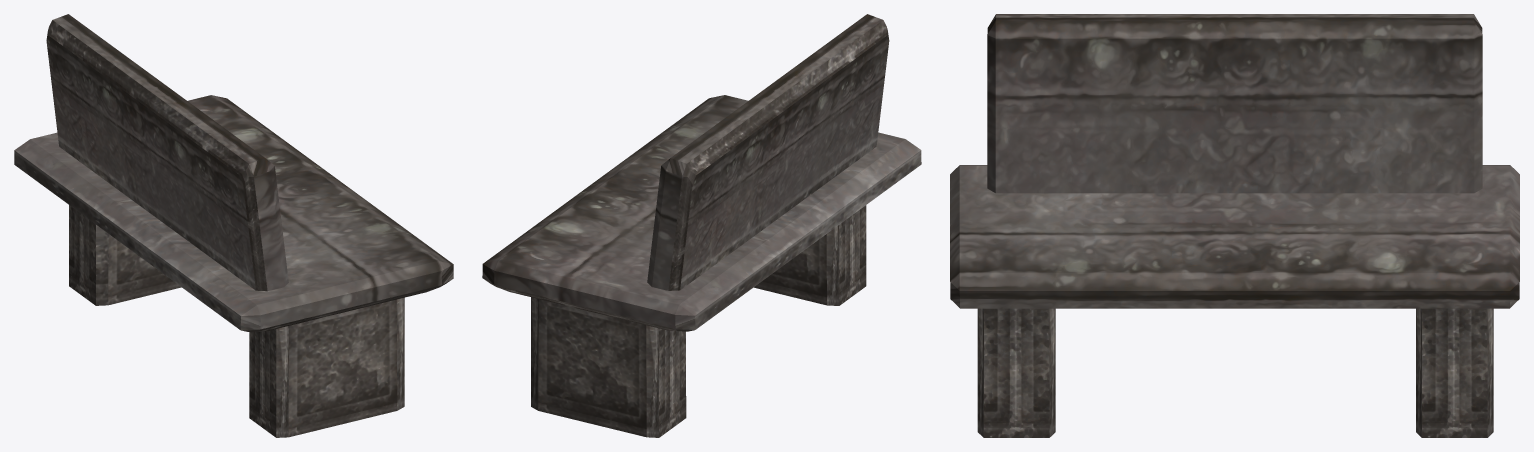
Rendered from adv2_bench.fbx.
3 views of the same model, side by side, from view 1: azimuth 30°, elevation 25°; view 2: azimuth 150°, elevation 25°; view 3: azimuth 270°, elevation 25° (orthographic). The views are drawn at different scales.
Parts seen in each view (by area): view 1: Default_Layer; view 2: Default_Layer; view 3: Default_Layer.
Part boxes in pixels (x1=…): Default_Layer: x1=14, y1=14, x2=453, y2=437; Default_Layer: x1=482, y1=14, x2=921, y2=437; Default_Layer: x1=950, y1=14, x2=1519, y2=437.
Bounding box in the file's own units: 90.3 × 112 × 172.
